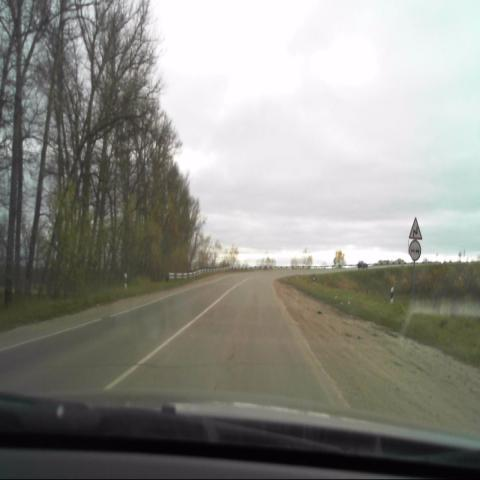1_12: (409, 218, 422, 239)
3_20: (408, 241, 422, 261)
